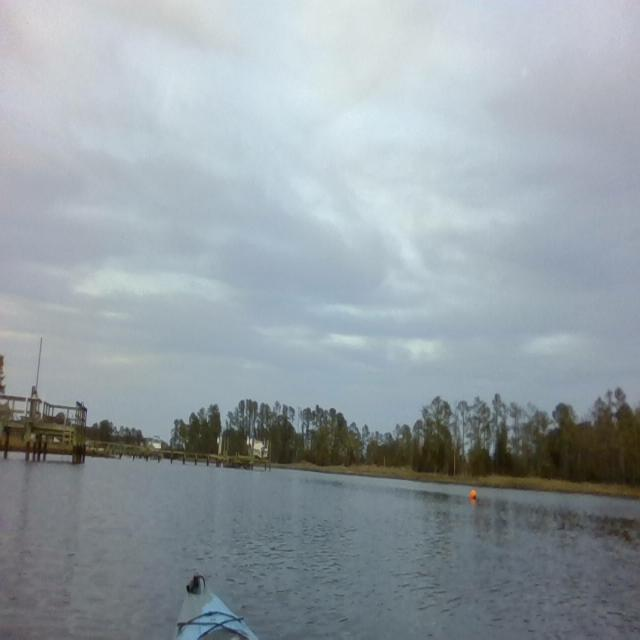Buoy: (469, 484, 478, 505)
